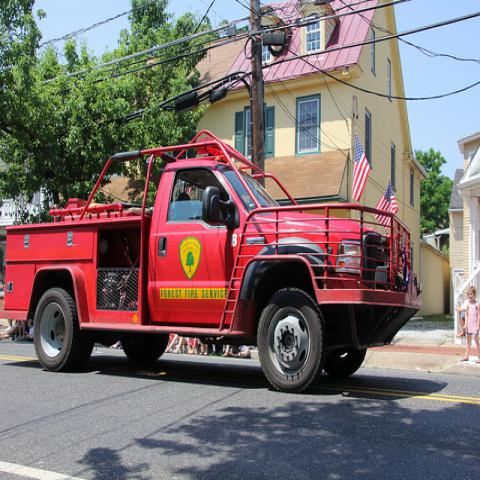truck: (3, 129, 419, 396)
